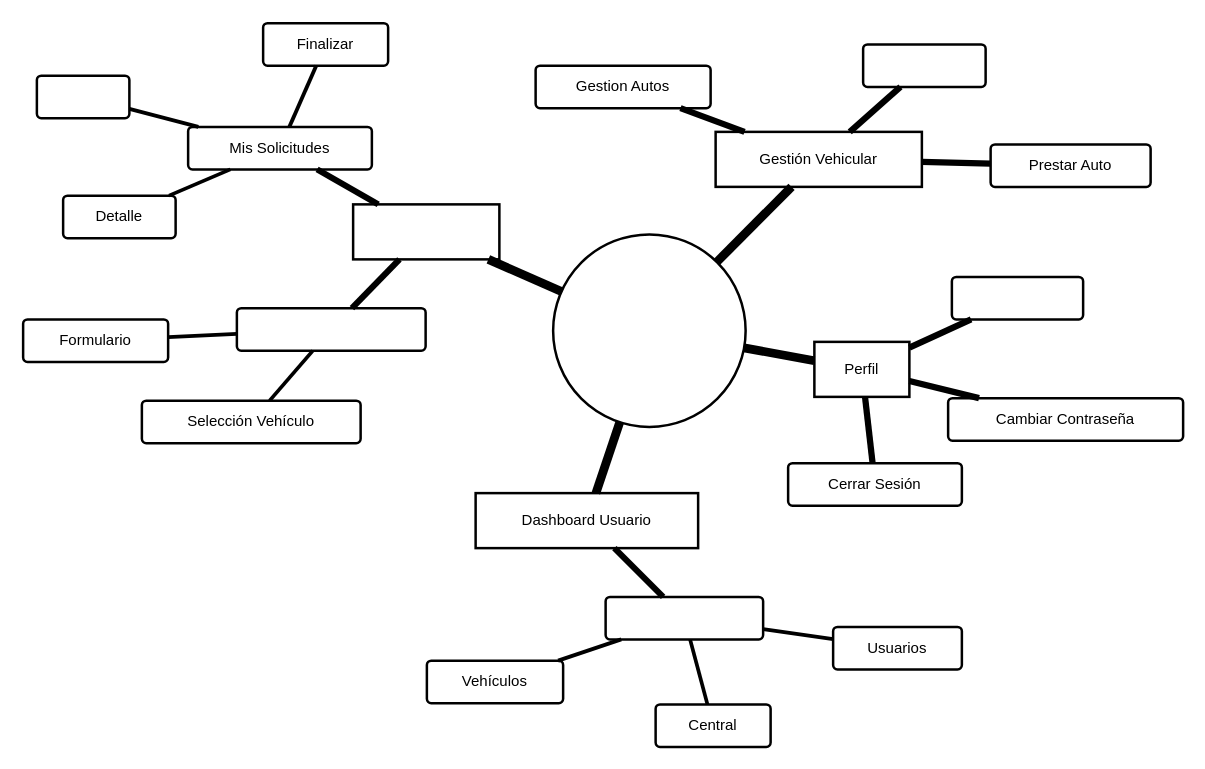
Some shapes in this 1205 by 769 pixel diagram are drawn without their labels. The shapes that lost their labels are listed below. From the top down, each one's box as (x1, y1, x2, y2) in pixels, then its label:
(861, 42, 986, 88): Historial
(35, 74, 130, 119): Chat
(351, 202, 500, 260): Solicitudes
(950, 275, 1084, 320): Ver Perfil
(235, 306, 426, 351): Nueva Solicitud
(551, 232, 746, 428): ADMINISTRADOR
(604, 595, 764, 640): Dashboards
